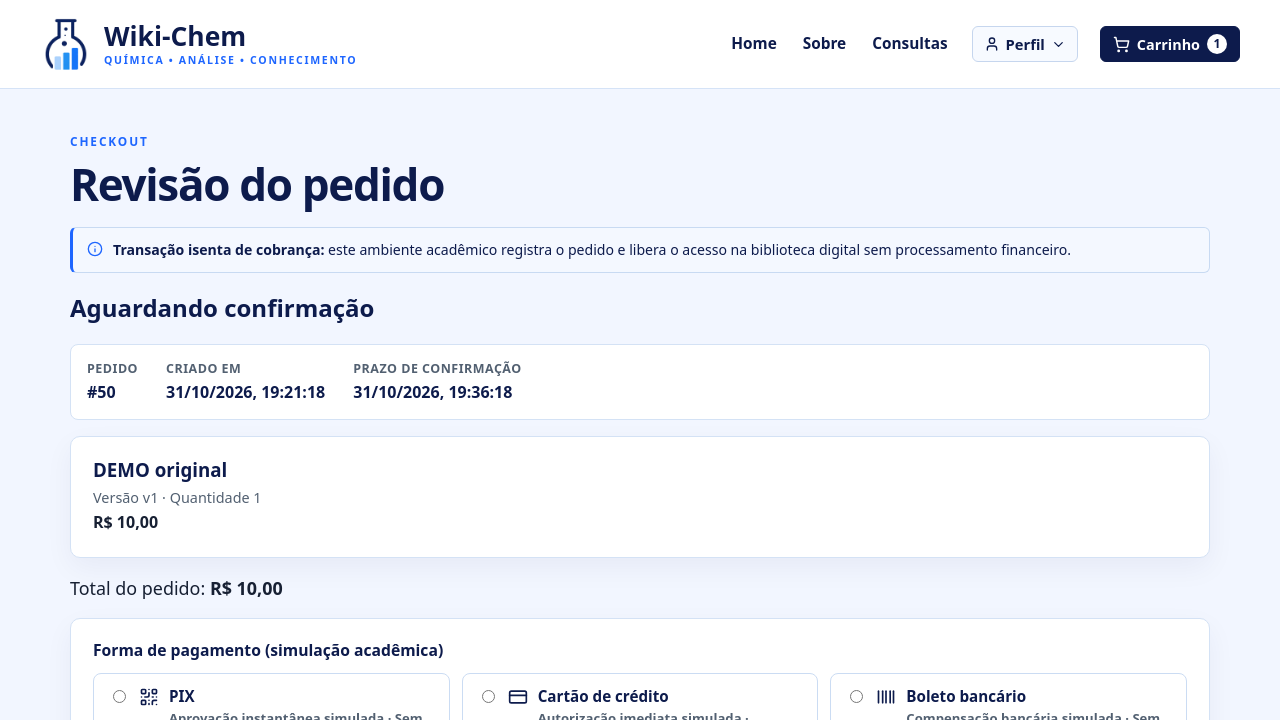
Test: checkout integrado aos contratos HTTP, simulação de pagamento e compras consecutivas › não substitui snapshot quando a oferta muda; permite cancelamento explícito
The width and height of the screenshot is (1280, 720).
Click the radio button labelled "PIX". click: (120, 696)
box: [113,690,126,703]
(page scrolled)
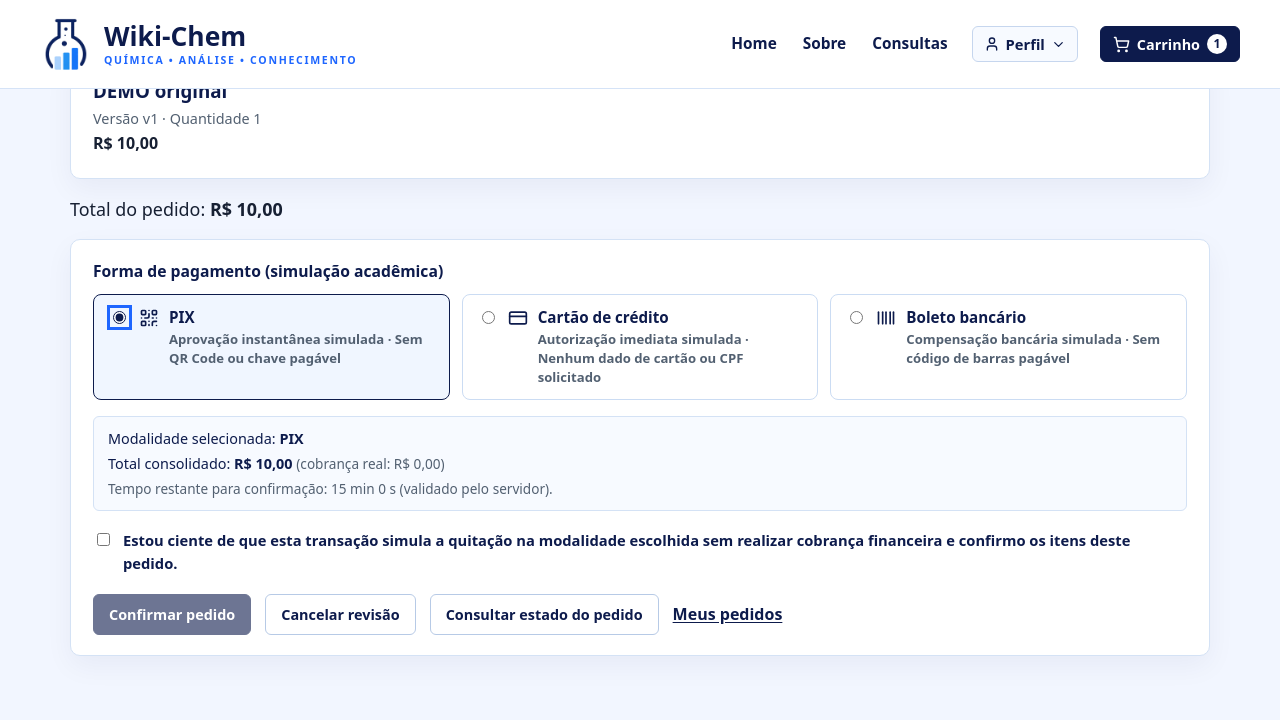
Click the checkbox. click: (104, 539)
box: [97,533,110,546]
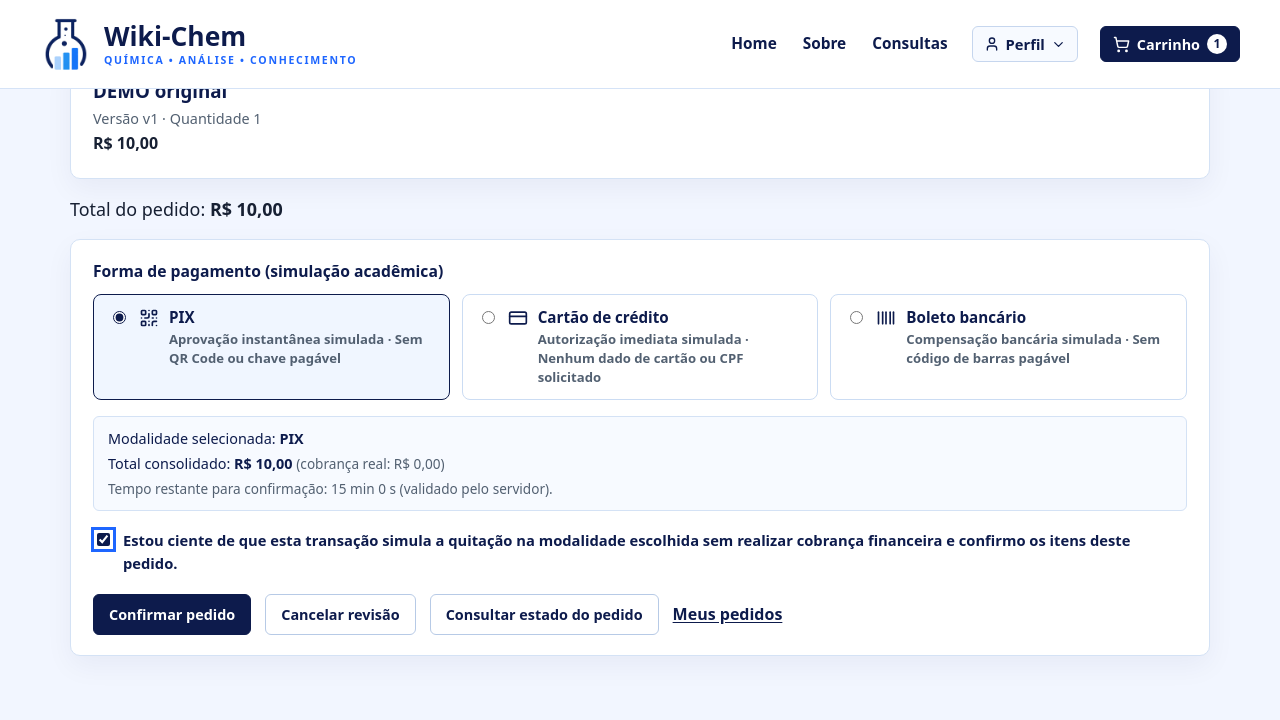
Click the button "Confirmar pedido". click: (172, 614)
box: [93,594,251,635]
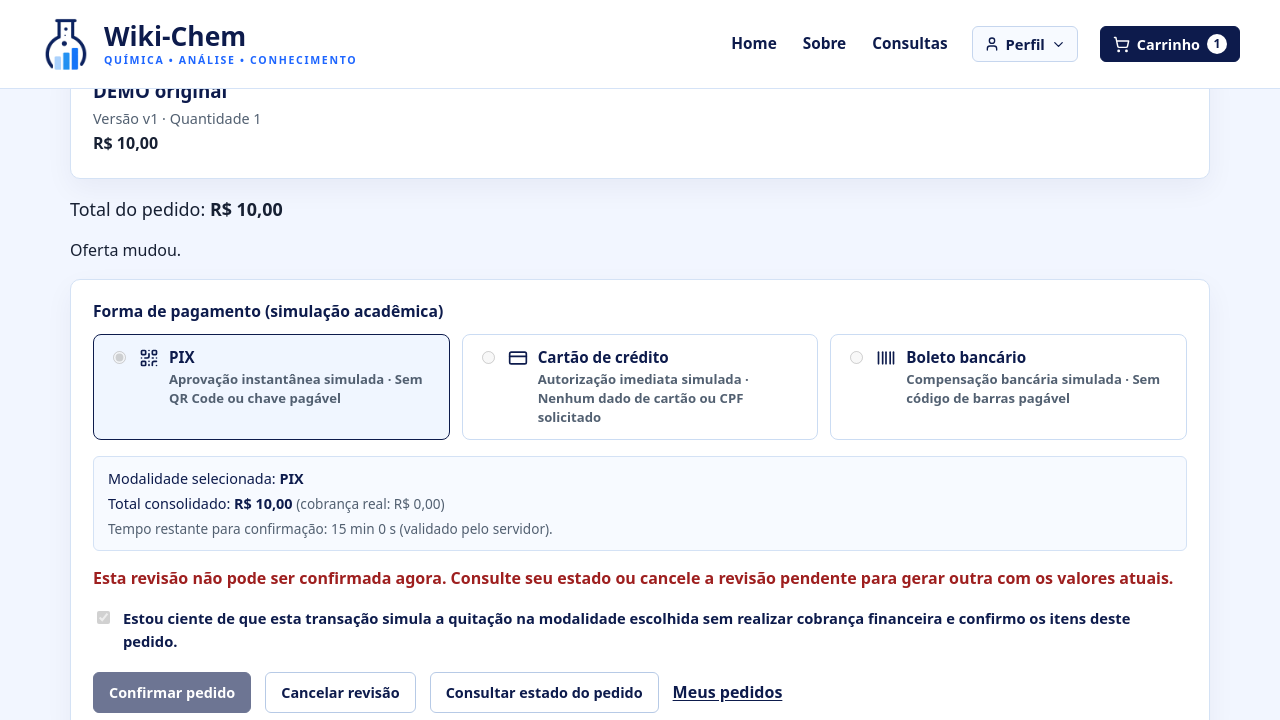
expect the message shows "Oferta mudou": met, box [70,239,181,261]
expect the button "Confirmar pedido" is disabled: met, box [93,672,251,713]
Click the button "Cancelar revisão". click: (340, 692)
box: [265,672,416,713]
(page scrolled)
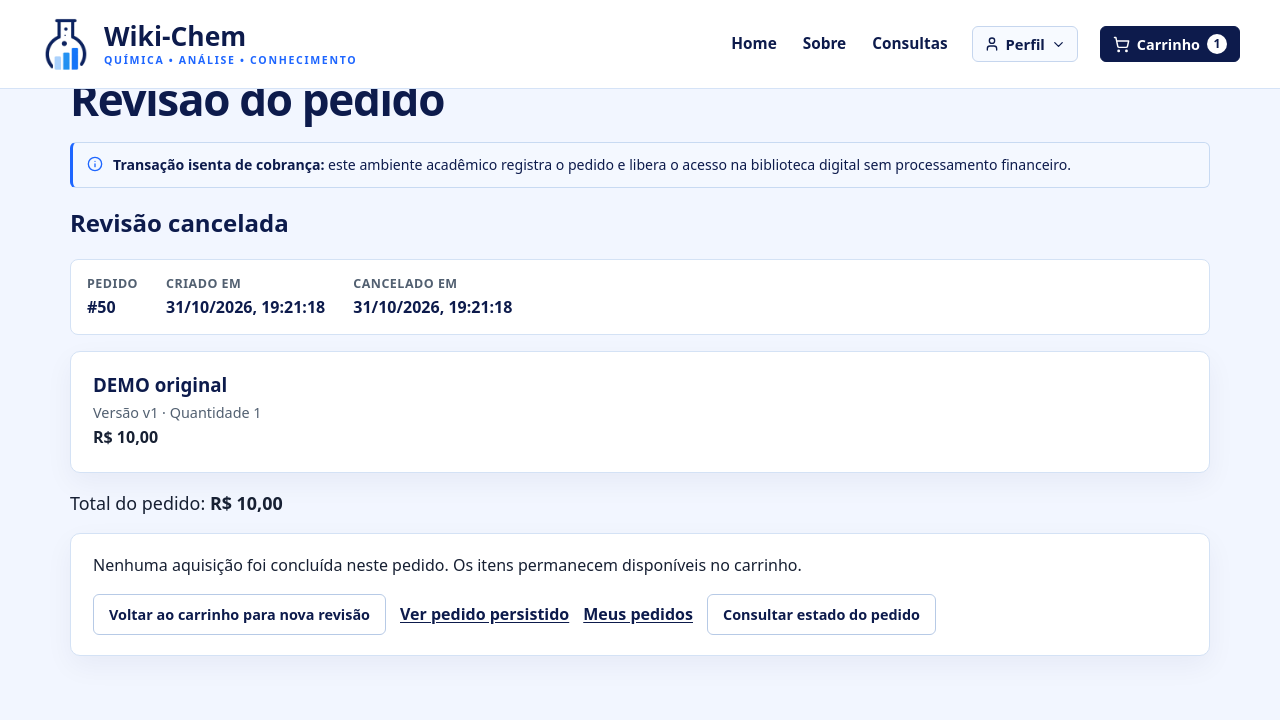
expect the heading "Revisão cancelada" is shown: met, box [70,206,289,239]
